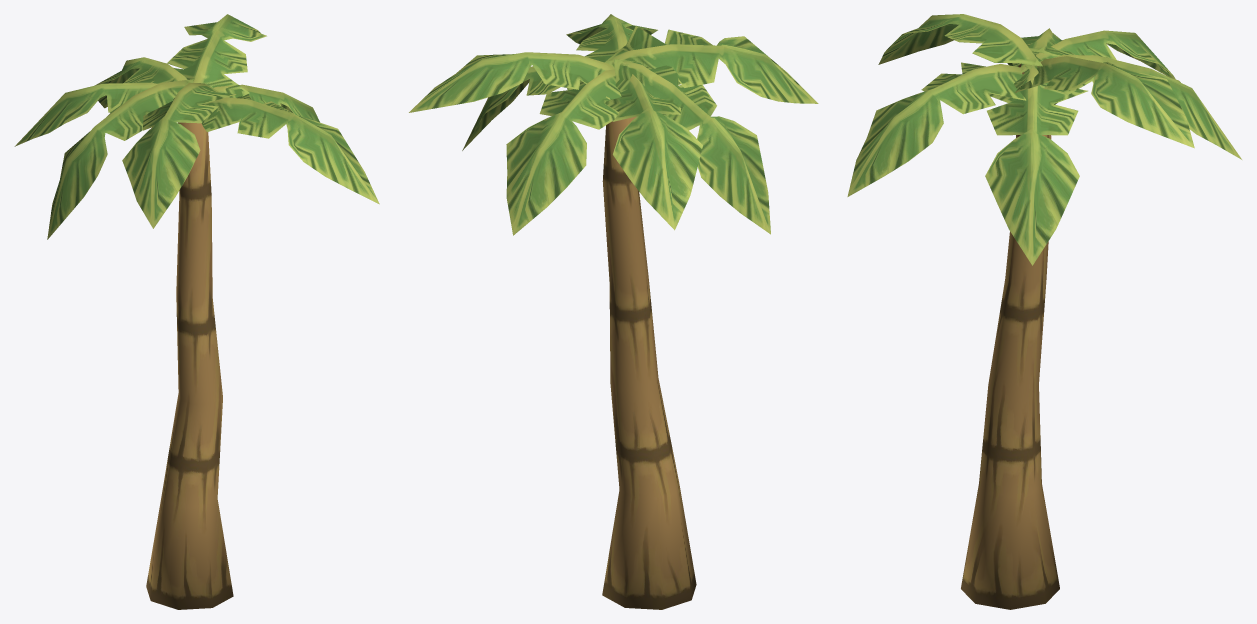
The model's file is palm002.obj.
3 views of the same model, side by side, from view 1: azimuth 30°, elevation 25°; view 2: azimuth 150°, elevation 25°; view 3: azimuth 270°, elevation 25° (orthographic). The views are drawn at different scales.
Visible parts, largest first — view 1: Cylinder001, Plane004, Plane007, Plane005, Plane002, Plane006, Plane003, Plane001; view 2: Cylinder001, Plane003, Plane005, Plane006, Plane004, Plane002, Plane007, Plane001; view 3: Cylinder001, Plane001, Plane007, Plane002, Plane004, Plane003, Plane006, Plane005.
Boxes of the visible parts, bbox=[...] form: Cylinder001: bbox=[146, 122, 233, 609]; Plane004: bbox=[122, 82, 236, 228]; Plane007: bbox=[201, 94, 379, 204]; Plane005: bbox=[47, 79, 194, 239]; Plane002: bbox=[151, 14, 266, 97]; Plane006: bbox=[14, 82, 157, 146]; Plane003: bbox=[95, 57, 187, 108]; Plane001: bbox=[213, 84, 319, 122]; Cylinder001: bbox=[602, 116, 696, 609]; Plane003: bbox=[506, 69, 621, 235]; Plane005: bbox=[613, 59, 770, 234]; Plane006: bbox=[605, 74, 702, 230]; Plane004: bbox=[604, 26, 818, 103]; Plane002: bbox=[409, 52, 613, 112]; Plane007: bbox=[566, 14, 657, 62]; Plane001: bbox=[462, 66, 568, 150]; Cylinder001: bbox=[961, 63, 1059, 609]; Plane001: bbox=[985, 66, 1087, 265]; Plane007: bbox=[847, 62, 1026, 196]; Plane002: bbox=[1015, 56, 1194, 148]; Plane004: bbox=[878, 14, 1042, 66]; Plane003: bbox=[1025, 54, 1241, 159]; Plane006: bbox=[1012, 30, 1175, 79]; Plane005: bbox=[1007, 28, 1075, 104].
Bounding box in the file's own units: 186 × 313 × 199.
2 materials, 2 textured.
